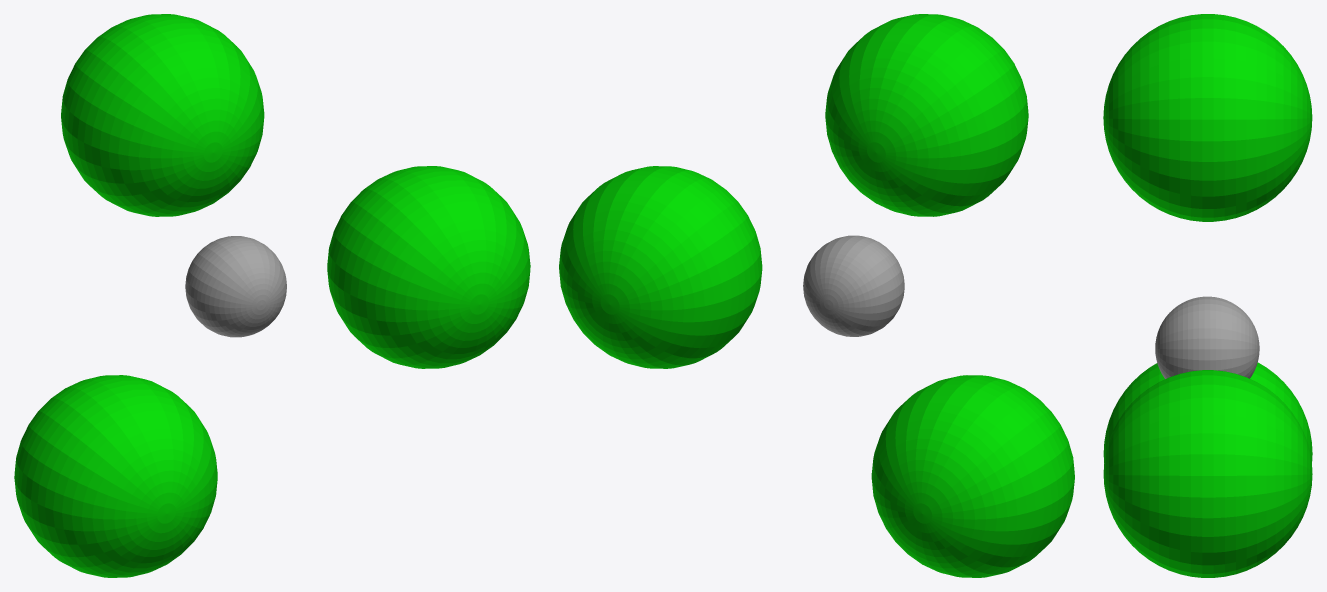
The model's file is Aluminum Chloride.glb.
3 renders of one model, left to right at view 1: azimuth 30°, elevation 25°; view 2: azimuth 150°, elevation 25°; view 3: azimuth 270°, elevation 25°, orthographic. The views are drawn at different scales.
Parts seen in each view (by area): view 1: world; view 2: world; view 3: world.
Boxes of the visible parts, bbox=[...] form: world: bbox=[14, 14, 530, 577]; world: bbox=[559, 14, 1074, 577]; world: bbox=[1103, 14, 1312, 577].
Bounding box in the file's own units: 5.55 × 5.78 × 2.
